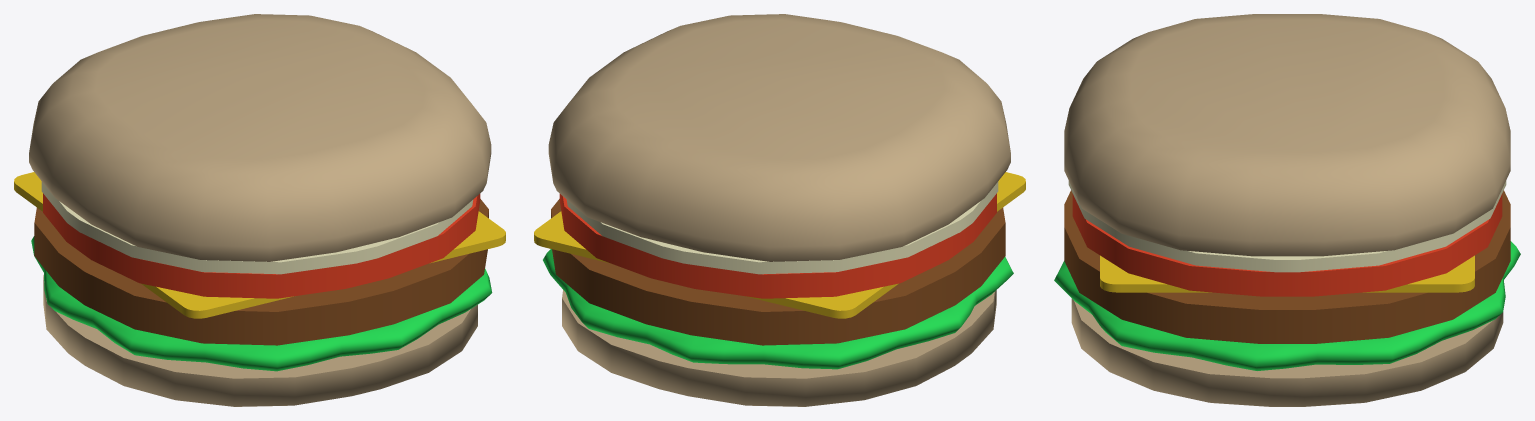
Rendered from burger.fbx.
The picture shows the model from 3 angles, left to right: view 1: azimuth 30°, elevation 25°; view 2: azimuth 150°, elevation 25°; view 3: azimuth 270°, elevation 25°; orthographic projection.
Parts seen in each view (by area): view 1: top, patty, bottom, tomatoes, lettice, onions, cheese; view 2: top, patty, bottom, lettice, tomatoes, onions, cheese; view 3: top, patty, bottom, tomatoes, lettice, onions, cheese.
Part boxes in pixels (x1,y1,x2,y2): top: (29,14,491,261); patty: (34,199,488,345); bottom: (43,275,477,406); tomatoes: (43,193,480,298); lettice: (31,236,492,371); onions: (41,181,473,274); cheese: (14,172,505,318); top: (548,14,1010,261); patty: (551,199,1005,345); bottom: (562,290,996,406); lettice: (543,249,1013,369); tomatoes: (559,193,996,298); onions: (566,181,998,274); cheese: (534,172,1025,318); top: (1064,14,1510,256); patty: (1064,190,1510,343); bottom: (1071,298,1503,406); tomatoes: (1072,194,1502,296); lettice: (1054,241,1520,370); onions: (1068,181,1506,272); cheese: (1100,255,1474,292).
Size of the model in its own units: 13.73 by 7.75 by 13.73.
